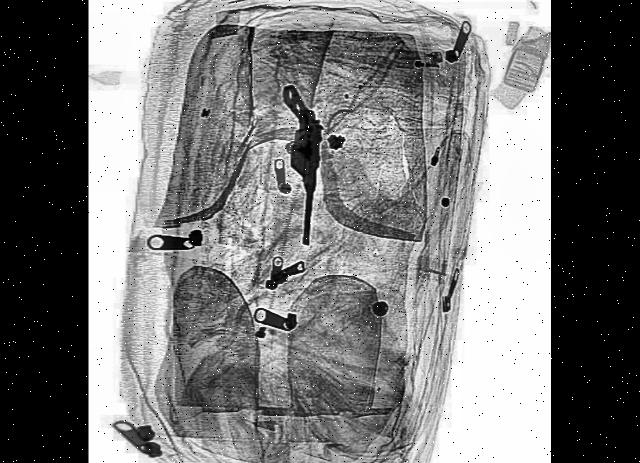Gun: (281, 80, 326, 248)
